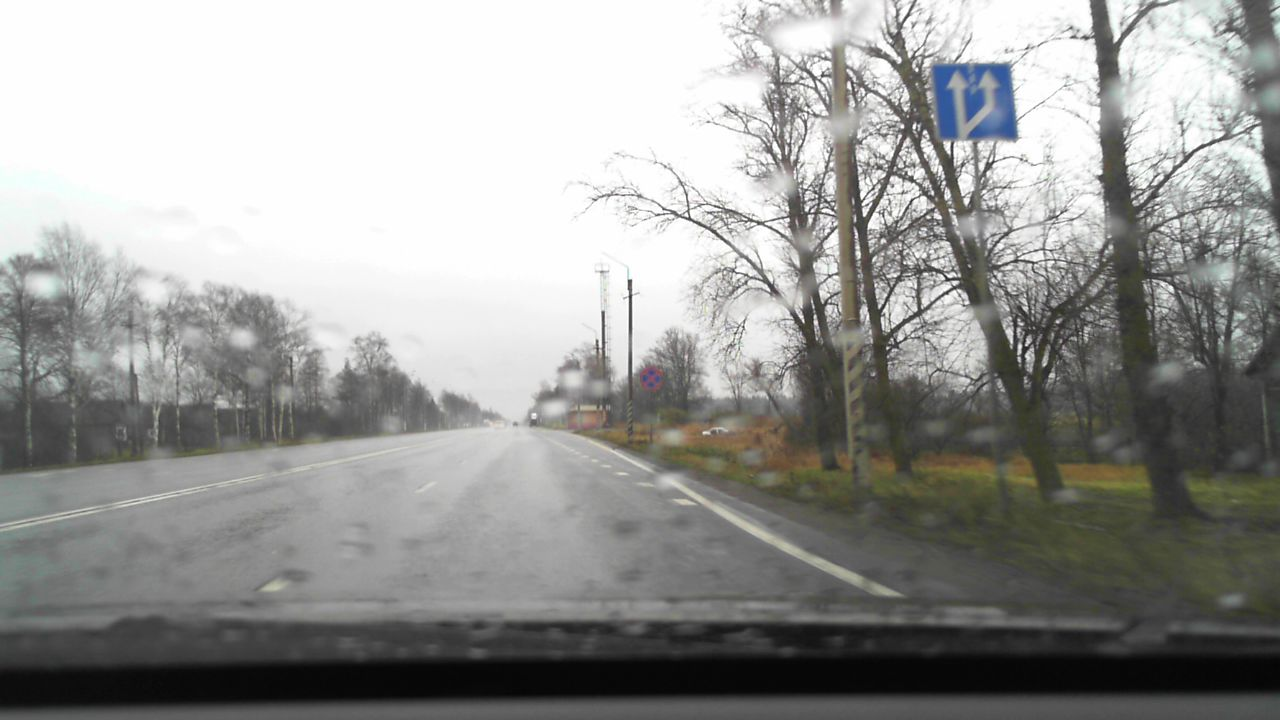No Parking: (639, 367, 662, 391)
